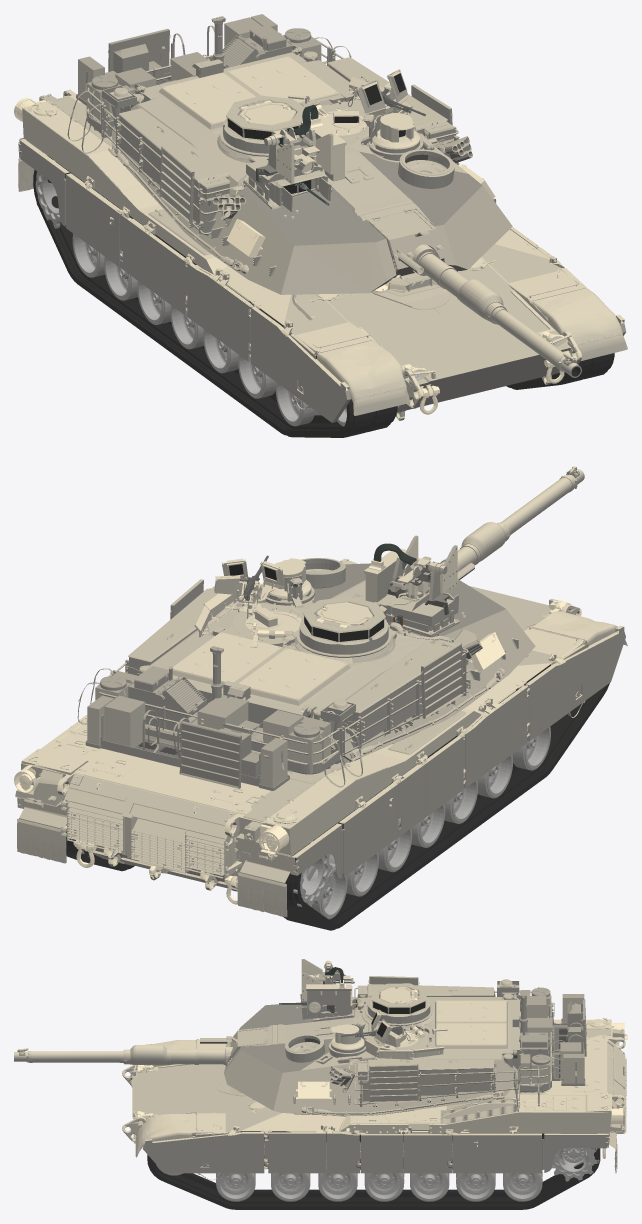
Rendered from vehicle.glb.
The picture shows the model from 3 angles, top to bottom: view 1: azimuth 30°, elevation 25°; view 2: azimuth 150°, elevation 25°; view 3: azimuth 270°, elevation 25°; orthographic projection. The views are drawn at different scales.
Visible parts, largest first — view 1: g0029 bone_turret, g0000 root, g0000_front_glacis front_glacis, g0242 track_r, g0029_front_cheeks front_cheeks, g0029_side_slopes side_slopes, g0208 ex_armor_body_r_01, g0176 ex_decor_r_01, g0055 ex_armor_r_03, g0035 gun_barrel, g0180 ex_decor_l_01, Cylinder.003 / frame (+38 smaller); view 2: g0000 root, g0029 bone_turret, g0242 track_r, g0095 hatch_14, g0208 ex_armor_body_r_01, g0029_side_slopes side_slopes, Cylinder.003 / frame, g0055 ex_armor_r_03, g0096 hatch_13, g0045 ex_armor_08, g0203 ex_armor_body_r_06, g0068 ex_armor_06 (+44 smaller); view 3: g0000 root, g0029 bone_turret, g0243 track_l, g0000_front_glacis front_glacis, g0029_side_slopes side_slopes, g0235 ex_armor_body_l_01, g0230 ex_armor_body_l_06, g0059 ex_armor_l_03, g0035 gun_barrel, g0234 ex_armor_body_l_02, g0029_front_cheeks front_cheeks, Cylinder.003 / frame (+34 smaller).
Part boxes in pixels (x1,y1,x2,y2): g0029 bone_turret: (87, 37, 512, 294); g0000 root: (22, 89, 584, 420); g0000_front_glacis front_glacis: (284, 244, 569, 385); g0242 track_r: (33, 155, 397, 437); g0029_front_cheeks front_cheeks: (237, 151, 482, 245); g0029_side_slopes side_slopes: (112, 60, 362, 294); g0208 ex_armor_body_r_01: (249, 305, 351, 422); g0176 ex_decor_r_01: (312, 335, 410, 415); g0055 ex_armor_r_03: (118, 108, 230, 223); g0035 gun_barrel: (412, 244, 581, 377); g0180 ex_decor_l_01: (527, 280, 627, 360); Cylinder.003 / frame: (256, 104, 346, 184); g0000 root: (21, 599, 585, 891); g0029 bone_turret: (97, 575, 519, 774); g0242 track_r: (282, 664, 609, 930); g0095 hatch_14: (122, 798, 236, 878); g0208 ex_armor_body_r_01: (525, 625, 625, 741); g0029_side_slopes side_slopes: (150, 588, 535, 760); Cylinder.003 / frame: (364, 535, 457, 614); g0055 ex_armor_r_03: (344, 640, 463, 743); g0096 hatch_13: (61, 783, 128, 855); g0045 ex_armor_08: (179, 721, 242, 788); g0203 ex_armor_body_r_06: (339, 780, 399, 876); g0068 ex_armor_06: (239, 648, 347, 700); g0000 root: (122, 1017, 625, 1169); g0029 bone_turret: (224, 979, 560, 1115); g0243 track_l: (147, 1131, 600, 1209); g0000_front_glacis front_glacis: (132, 1043, 281, 1132); g0029_side_slopes side_slopes: (270, 1023, 518, 1115); g0235 ex_armor_body_l_01: (143, 1126, 267, 1180); g0230 ex_armor_body_l_06: (448, 1129, 541, 1173); g0059 ex_armor_l_03: (357, 1059, 498, 1101); g0035 gun_barrel: (14, 1045, 232, 1066); g0234 ex_armor_body_l_02: (264, 1124, 327, 1173); g0029_front_cheeks front_cheeks: (240, 999, 355, 1072); Cylinder.003 / frame: (301, 959, 354, 1014).
Size of the model in its own units: 3.7 by 3.26 by 9.82.
96 materials, 11 textured.
